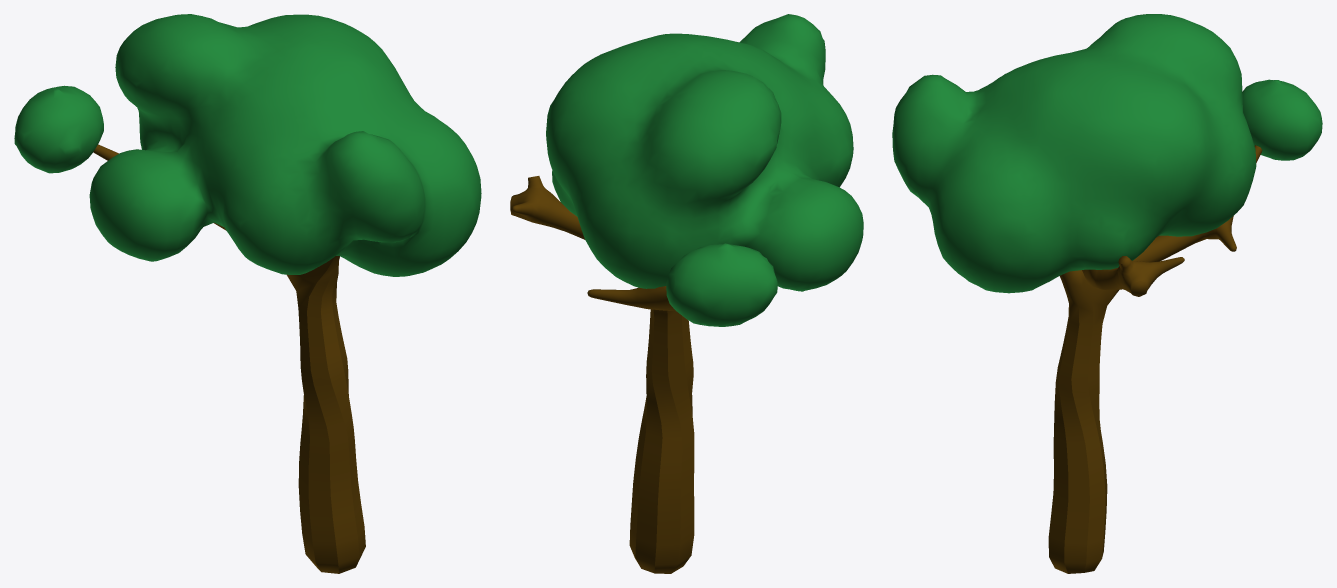
File: Tree_1.fbx
3 renders of one model, left to right at view 1: azimuth 30°, elevation 25°; view 2: azimuth 150°, elevation 25°; view 3: azimuth 270°, elevation 25°, orthographic. The views are drawn at different scales.
Parts seen in each view (by area): view 1: Plane.007; view 2: Plane.007; view 3: Plane.007.
Boxes of the visible parts, x1,y1,x2,y2 form: Plane.007: (14, 14, 481, 573); Plane.007: (510, 14, 863, 573); Plane.007: (892, 14, 1322, 573).
Size of the model in its own units: 1406 by 2195 by 1699.
